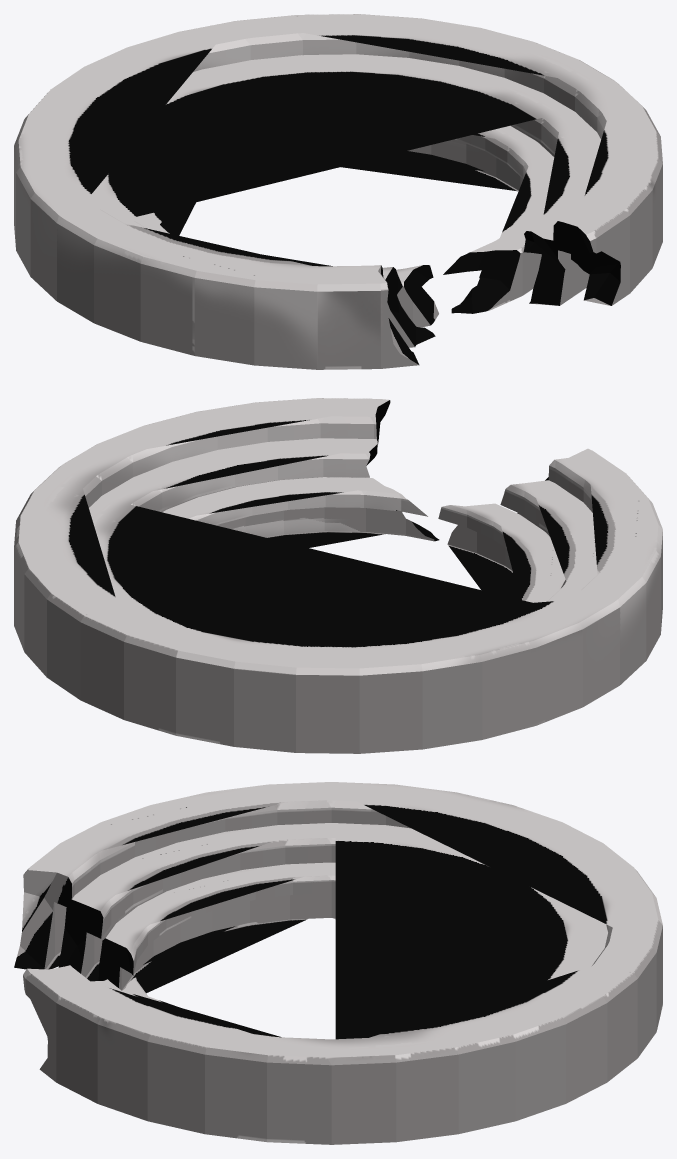
The model's file is statdium.fbx.
3 renders of one model, top to bottom at view 1: azimuth 30°, elevation 25°; view 2: azimuth 150°, elevation 25°; view 3: azimuth 270°, elevation 25°, orthographic.
Parts seen in each view (by area): view 1: Cylinder; view 2: Cylinder; view 3: Cylinder.
Boxes of the visible parts, x1,y1,x2,y2 form: Cylinder: (14, 14, 662, 369); Cylinder: (14, 398, 662, 753); Cylinder: (14, 782, 662, 1144).
Bounding box in the file's own units: 280 × 41.23 × 274.
